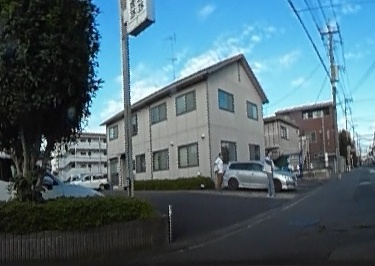person: (263, 149, 277, 198), (213, 152, 225, 190)
